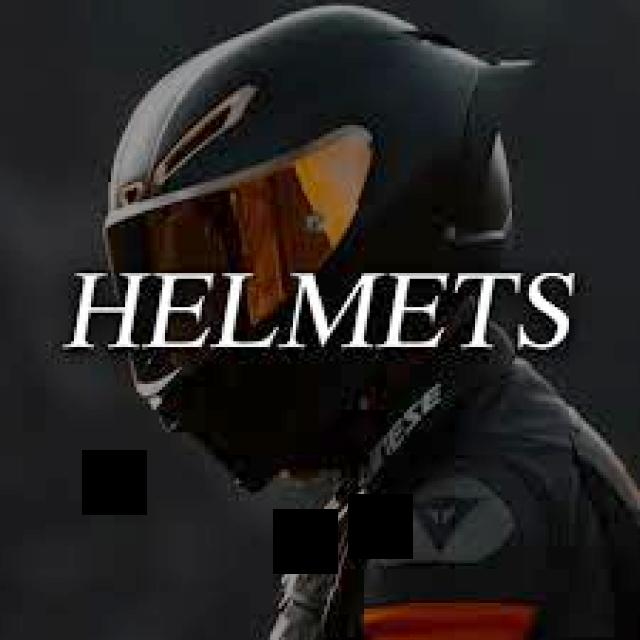Helmet: (68, 9, 568, 489)
